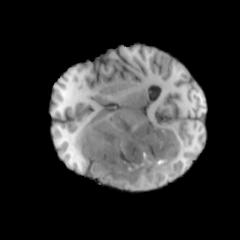glioma: (74, 113, 186, 188)
